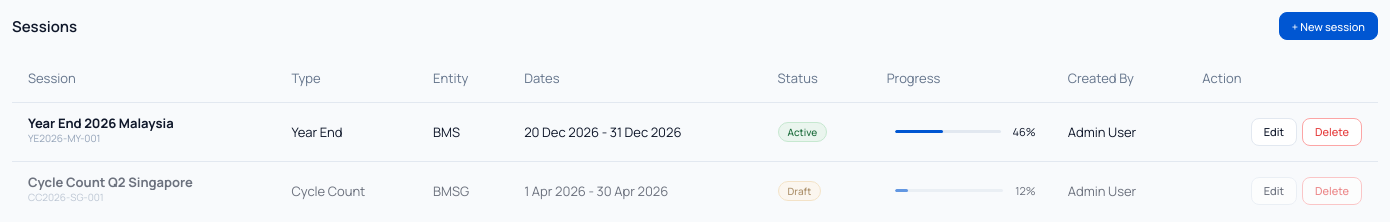
Test: AdminHomePage › deletes a session from the table after confirmation
expect the text "Cycle Count Q2 Singapore" is shown: met, box x1=28 y1=174 x2=193 y2=190
Click the button "Delete" in the row of "Cycle Count Q2 Singapore" at (1332, 191), box x1=1302 y1=177 x2=1362 y2=205
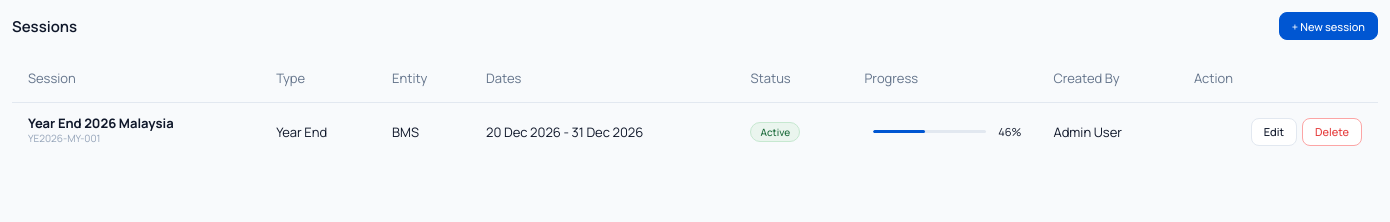
expect the text "Cycle Count Q2 Singapore" is gone: met
